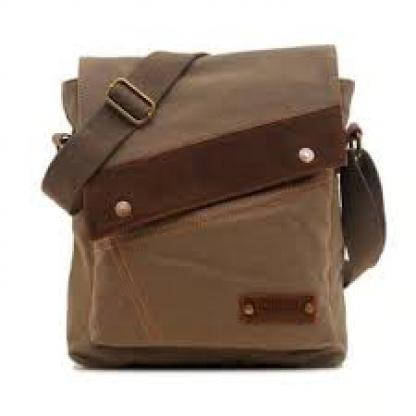morral: (32, 28, 400, 381)
